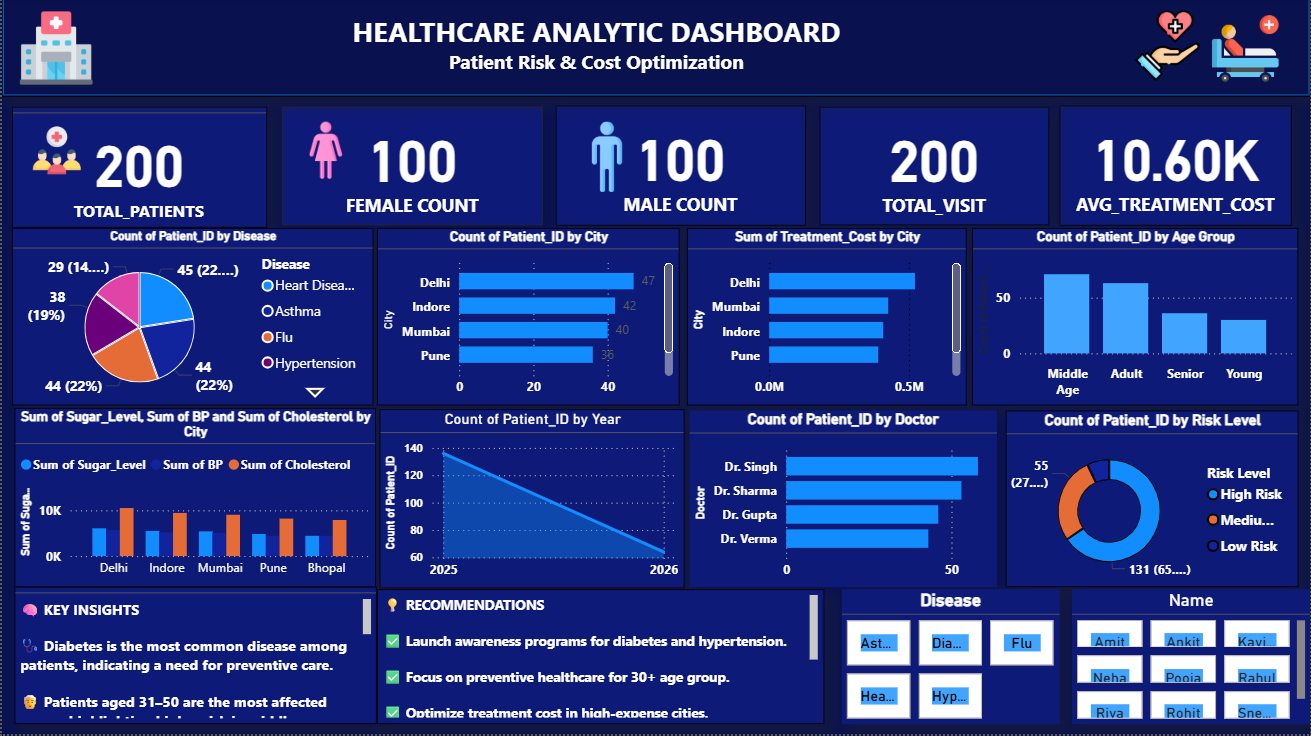

The page's visual inventory and layout, read from the dashboard file:
{"tool":"powerbi","page":{"name":"Page 1","canvas":[1280,720],"ordinal":0},"visuals":[{"type":"card","fields":{"Values":["Health_Data.TOTAL_PATIENTS"]},"box":[9.8,106.4,249.5,118.6],"z":0},{"type":"card","fields":{"Values":["Health_Data.AVG_TREATMENT_COST"]},"box":[1034.5,105.2,227.4,117.4],"z":1000},{"type":"card","fields":{"Values":["Health_Data.TOTAL_VISIT"]},"box":[799.7,106.4,225,116.2],"z":2000},{"type":"card","fields":{"Values":["Health_Data.MALE COUNT"]},"box":[541.7,105.2,244.6,117.4],"z":3000},{"type":"card","fields":{"Values":["Health_Data.FEMALE COUNT"]},"box":[273.9,106.4,255.6,116.2],"z":4000},{"type":"shape","box":[0,0,1280.3,96.6],"z":5000},{"type":"textbox","box":[53.8,9.8,1055.3,96.6],"z":6000},{"type":"image","box":[9.8,7.3,86.8,83.2],"z":7000},{"type":"image","box":[1151.9,7.3,128.4,84.4],"z":8000},{"type":"image","box":[1055.3,7.3,170,78.3],"z":9000},{"type":"image","box":[24.5,75.8,58.7,146.7],"z":10000},{"type":"image","box":[256.8,116.2,119.8,66],"z":11000},{"type":"image","box":[529.5,116.2,124.7,78.3],"z":12000},{"type":"pieChart","fields":{"Y":["CountNonNull(Health_Data.Patient_ID)"],"Category":["Health_Data.Disease"]},"box":[9.8,225,353.4,173.6],"z":13000},{"type":"barChart","fields":{"Category":["Health_Data.City"],"Y":["CountNonNull(Health_Data.Patient_ID)"]},"box":[366.8,225,295.9,173.6],"z":14000},{"type":"barChart","fields":{"Y":["Sum(Health_Data.Treatment_Cost)"],"Category":["Health_Data.City"]},"box":[670.1,225,273.9,173.6],"z":15000},{"type":"lineStackedColumnComboChart","fields":{"Category":["Health_Data.Age Group"],"Y":["CountNonNull(Health_Data.Patient_ID)"]},"box":[948.9,225,319.2,173.6],"z":16000},{"type":"clusteredColumnChart","fields":{"Category":["Health_Data.City"],"Y":["Sum(Health_Data.Sugar_Level)","Sum(Health_Data.BP)","Sum(Health_Data.Cholesterol)"]},"box":[12.2,401.1,353.4,174.9],"z":17000},{"type":"areaChart","fields":{"Category":["Health_Data.Visit_Date.Variation.Date Hierarchy.Year","Health_Data.Visit_Date.Variation.Date Hierarchy.Quarter","Health_Data.Visit_Date.Variation.Date Hierarchy.Day"],"Y":["CountNonNull(Health_Data.Patient_ID)"]},"box":[369.3,402.3,298.4,174.9],"z":18000},{"type":"barChart","fields":{"Category":["Health_Data.Doctor"],"Y":["CountNonNull(Health_Data.Patient_ID)"]},"box":[672.6,403.5,300.8,172.4],"z":19000},{"type":"textbox","box":[12.2,576,354.6,134.5],"z":20000},{"type":"textbox","box":[366.8,578.4,437.8,132.1],"z":21000},{"type":"donutChart","fields":{"Category":["Health_Data.Risk Level"],"Y":["CountNonNull(Health_Data.Patient_ID)"]},"box":[981.9,403.5,286.1,172.4],"z":22000},{"type":"advancedSlicerVisual","fields":{"Values":["Health_Data.Disease"]},"box":[821.7,578.4,212.8,132.1],"z":23000},{"type":"advancedSlicerVisual","fields":{"Values":["Health_Data.Name"]},"box":[1046.7,578.4,233.6,132.1],"z":24000}]}

Visuals, with their boxes in screenshot pixels (x1, y1, x2, y2), scaled from the page's 1280x720 canvas onto the 1311x736 screenshot:
card - Health_Data.TOTAL_PATIENTS: 10/109/266/230
card - Health_Data.AVG_TREATMENT_COST: 1060/108/1292/228
card - Health_Data.TOTAL_VISIT: 819/109/1050/228
card - Health_Data.MALE COUNT: 555/108/805/228
card - Health_Data.FEMALE COUNT: 281/109/542/228
shape: 0/0/1310/99
textbox: 55/10/1136/109
image: 10/7/99/93
image: 1180/7/1310/94
image: 1081/7/1255/88
image: 25/77/85/227
image: 263/119/386/186
image: 542/119/670/199
pieChart - CountNonNull(Health_Data.Patient_ID) x Health_Data.Disease: 10/230/372/407
barChart - Health_Data.City x CountNonNull(Health_Data.Patient_ID): 376/230/679/407
barChart - Sum(Health_Data.Treatment_Cost) x Health_Data.City: 686/230/967/407
lineStackedColumnComboChart - Health_Data.Age Group x CountNonNull(Health_Data.Patient_ID): 972/230/1299/407
clusteredColumnChart - Health_Data.City x Sum(Health_Data.Sugar_Level): 12/410/374/589
areaChart - Health_Data.Visit_Date.Variation.Date Hierarchy.Year x Health_Data.Visit_Date.Variation.Date Hierarchy.Quarter: 378/411/684/590
barChart - Health_Data.Doctor x CountNonNull(Health_Data.Patient_ID): 689/412/997/589
textbox: 12/589/376/726
textbox: 376/591/824/726
donutChart - Health_Data.Risk Level x CountNonNull(Health_Data.Patient_ID): 1006/412/1299/589
advancedSlicerVisual - Health_Data.Disease: 842/591/1060/726
advancedSlicerVisual - Health_Data.Name: 1072/591/1310/726
